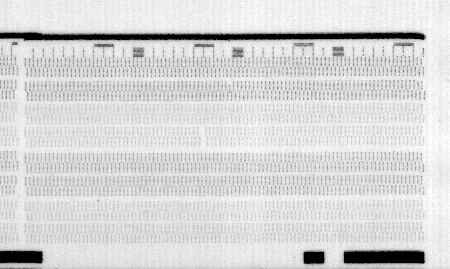Broken hole: (195, 126, 210, 149)
Oblique printing: (222, 80, 236, 96)
